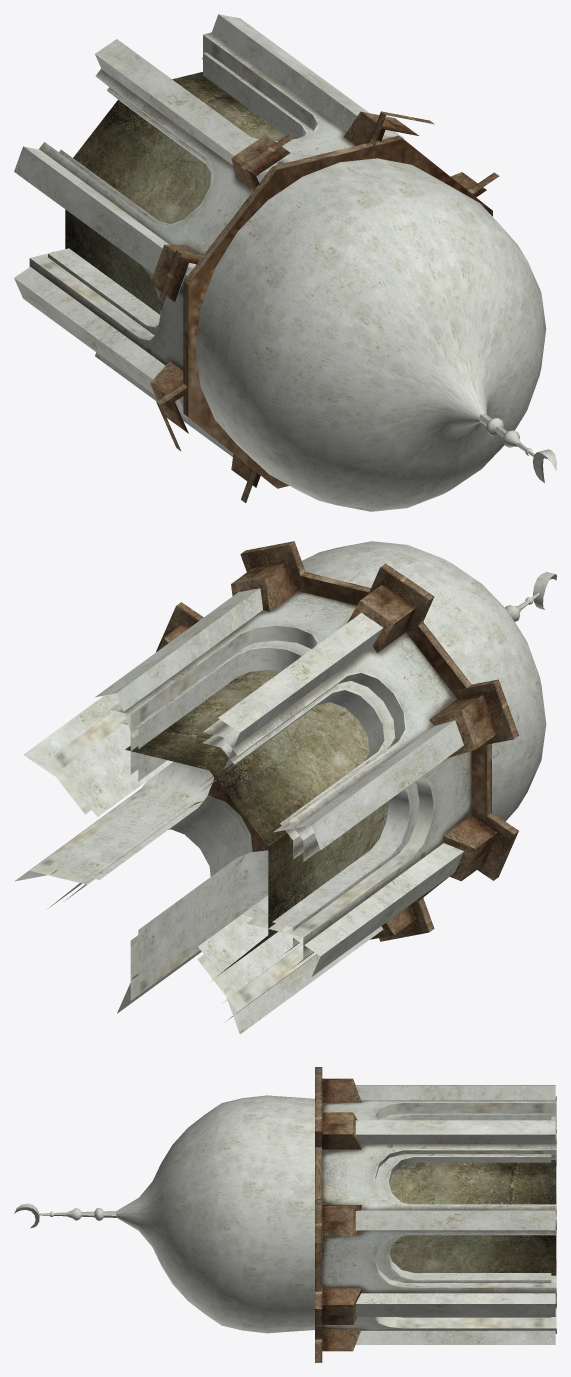
Rendered from dome_02.glb.
3 views of the same model, one above another, from view 1: azimuth 30°, elevation 25°; view 2: azimuth 150°, elevation 25°; view 3: azimuth 270°, elevation 25° (orthographic). The views are drawn at different scales.
Size of the model in its own units: 379 by 379 by 714.
Materials: 1 (1 with a texture image).
